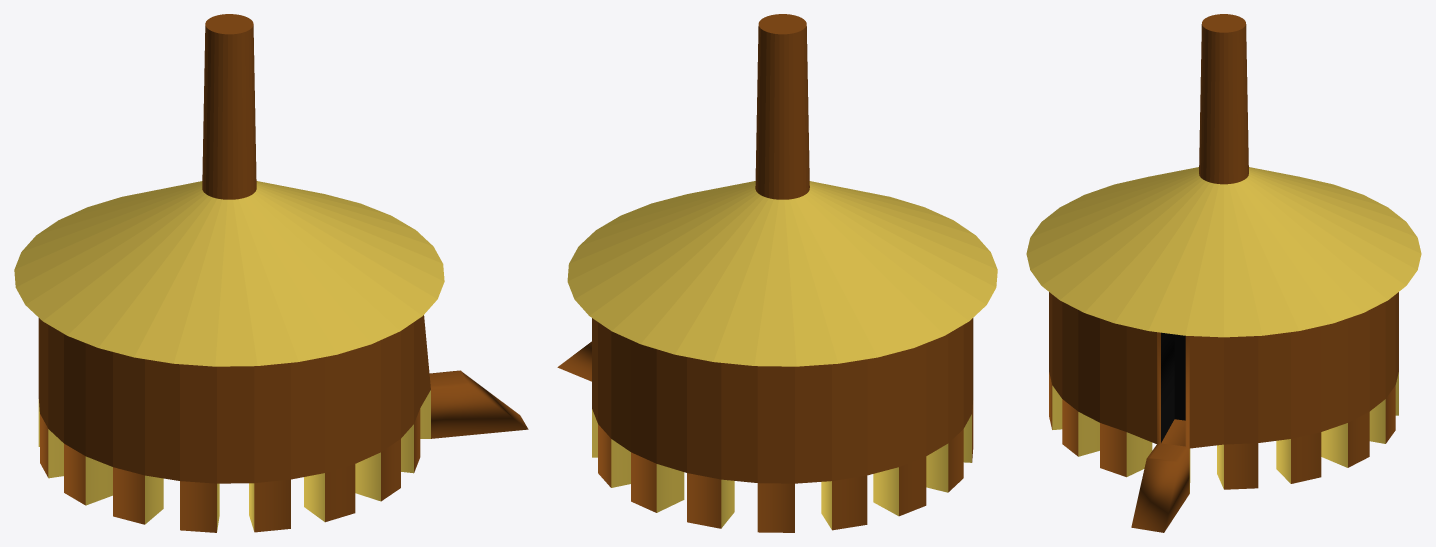
3 views of the same model, side by side, from view 1: azimuth 30°, elevation 25°; view 2: azimuth 150°, elevation 25°; view 3: azimuth 270°, elevation 25° (orthographic). The views are drawn at different scales.
Parts seen in each view (by area): view 1: Cylinder; view 2: Cylinder; view 3: Cylinder.
Part boxes in pixels (box(x1,y1,x2,y2)): Cylinder: box(14, 14, 528, 532); Cylinder: box(557, 14, 997, 532); Cylinder: box(1026, 14, 1421, 532).
Bounding box in the file's own units: 752 × 695 × 631.
